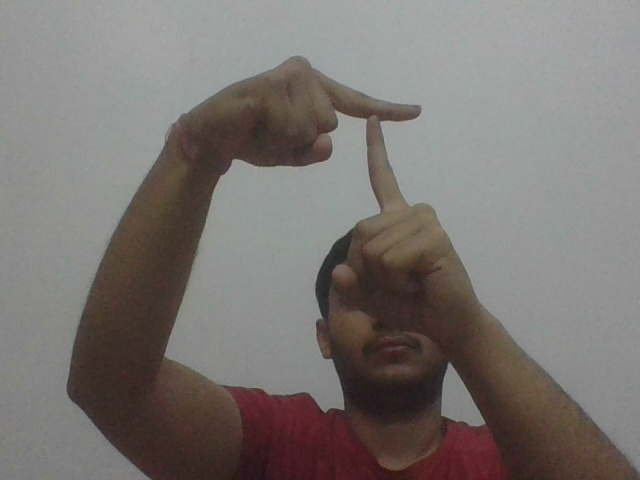T: (338, 75, 432, 204)
